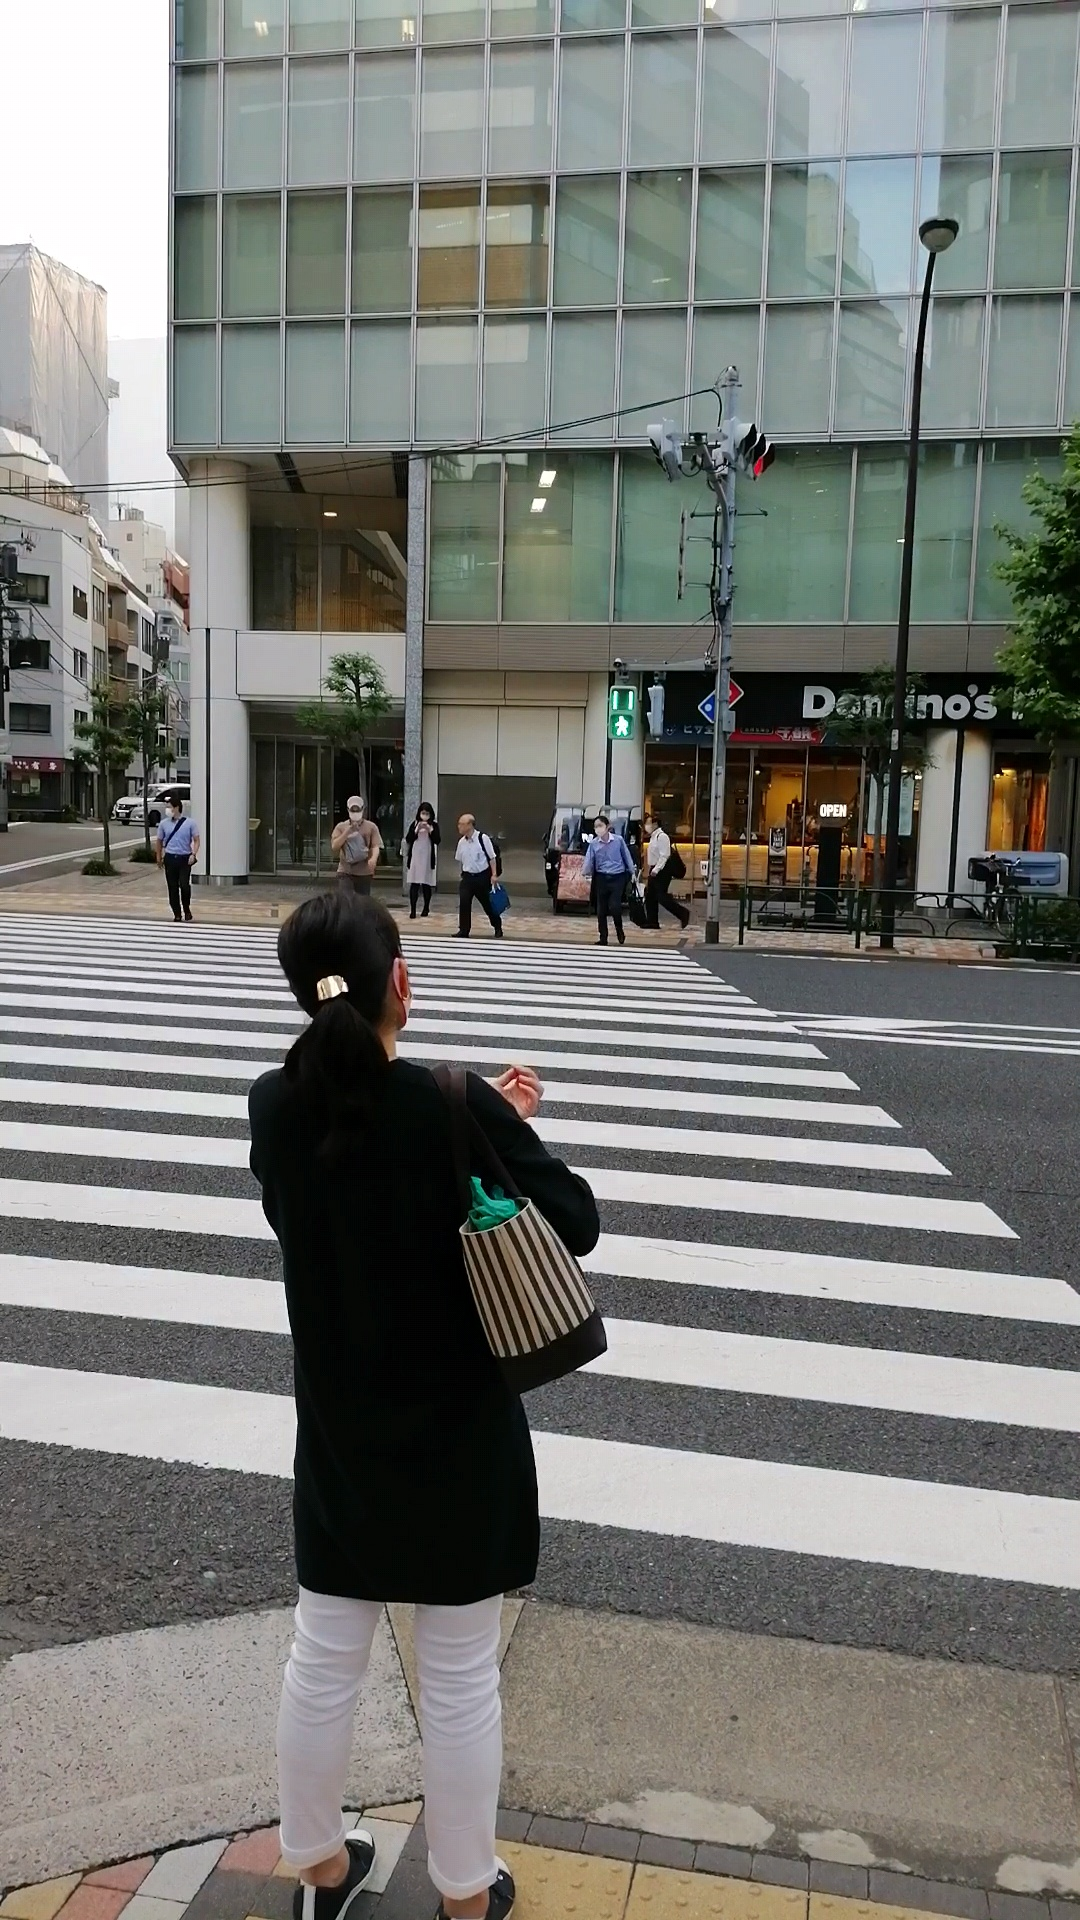green: (605, 684, 638, 741)
